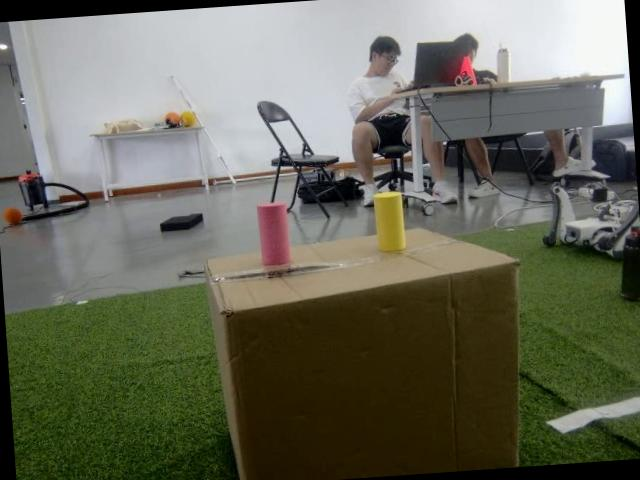red_cylinder: (256, 200, 291, 267)
yellow_cylinder: (372, 191, 406, 253)
